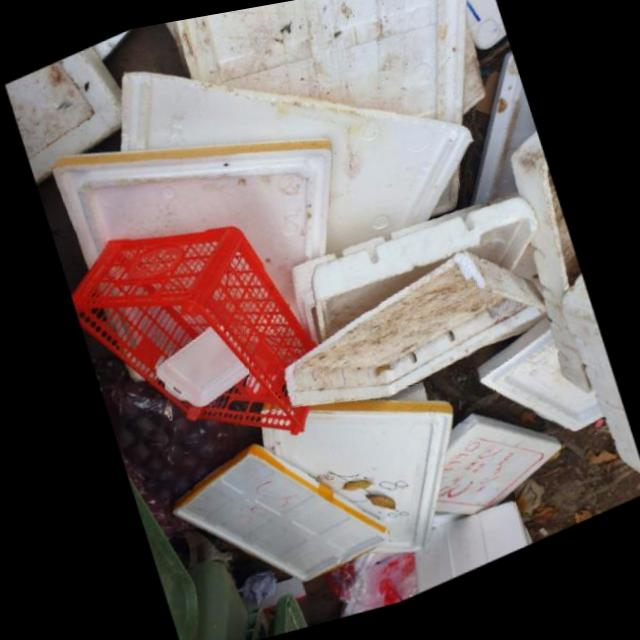xop: (117, 73, 470, 256), (48, 144, 331, 324), (283, 260, 546, 412), (178, 0, 464, 132), (310, 206, 537, 347), (171, 447, 390, 586), (261, 405, 454, 559), (509, 140, 592, 403), (561, 282, 640, 483), (477, 328, 604, 441), (154, 330, 249, 410)
